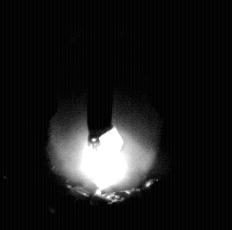arame: (89, 0, 114, 143)
poca: (48, 0, 156, 230)
